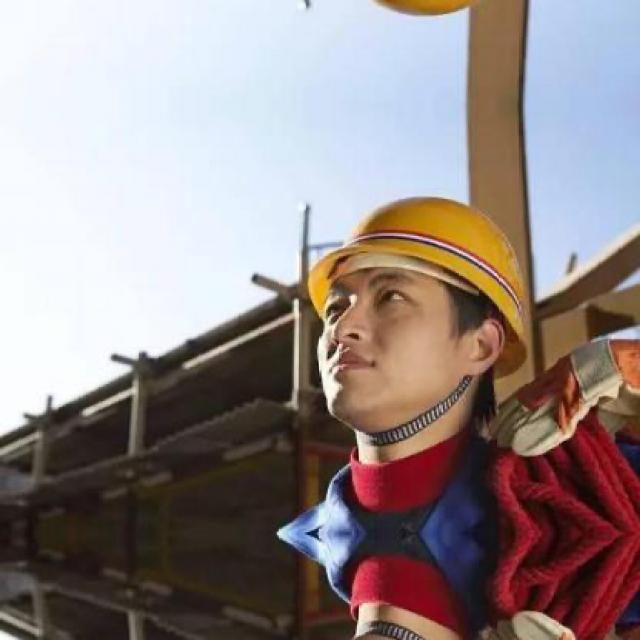helmet: (289, 159, 551, 444)
